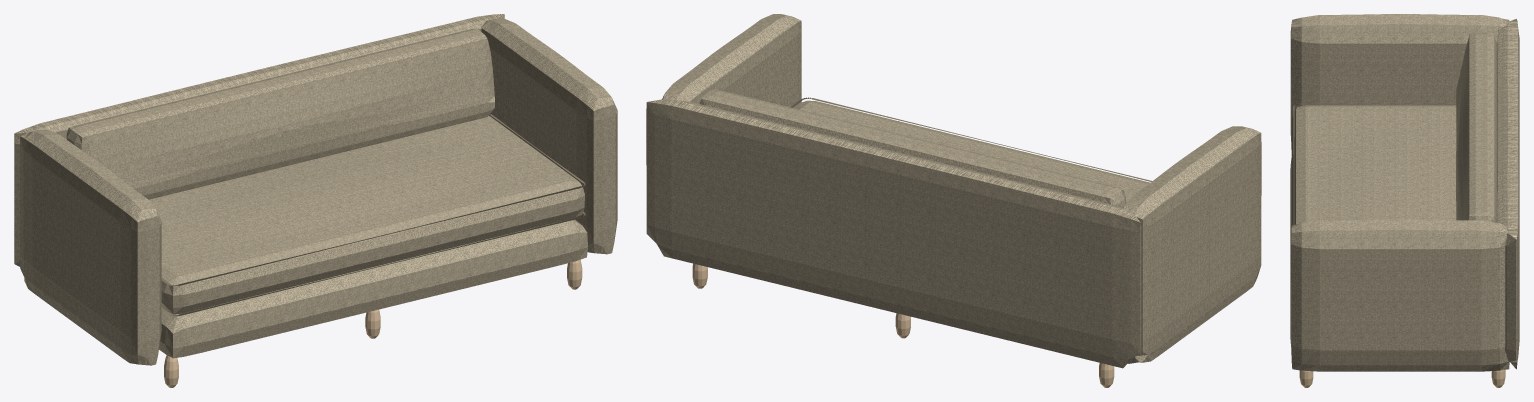
The model's file is CAL-SOF-3-seat.glb.
The picture shows the model from 3 angles, left to right: view 1: azimuth 30°, elevation 25°; view 2: azimuth 150°, elevation 25°; view 3: azimuth 270°, elevation 25°; orthographic projection. The views are drawn at different scales.
Parts seen in each view (by area): view 1: seat:fabric:eyJwcmVzZXQiOiJib3VjbGUiLCJ3YXJwIjoib2F0Iiwid2Vm, inside-back:fabric:eyJwcmVzZXQiOiJib3VjbGUiLCJ3YXJwIjoib2F0I, arm-pad-l:fabric:eyJwcmVzZXQiOiJib3VjbGUiLCJ3YXJwIjoib2F0Iiw, deck:fabric:eyJwcmVzZXQiOiJib3VjbGUiLCJ3YXJwIjoib2F0Iiwid2Vm, arm-pad-r:fabric:eyJwcmVzZXQiOiJib3VjbGUiLCJ3YXJwIjoib2F0Iiw, back-pad:fabric:eyJwcmVzZXQiOiJib3VjbGUiLCJ3YXJwIjoib2F0Iiwi, seat:piping:pbr; view 2: back-pad:fabric:eyJwcmVzZXQiOiJib3VjbGUiLCJ3YXJwIjoib2F0Iiwi, arm-pad-l:fabric:eyJwcmVzZXQiOiJib3VjbGUiLCJ3YXJwIjoib2F0Iiw, inside-back:fabric:eyJwcmVzZXQiOiJib3VjbGUiLCJ3YXJwIjoib2F0I, arm-pad-r:fabric:eyJwcmVzZXQiOiJib3VjbGUiLCJ3YXJwIjoib2F0Iiw, seat:fabric:eyJwcmVzZXQiOiJib3VjbGUiLCJ3YXJwIjoib2F0Iiwid2Vm, seat:piping:pbr; view 3: arm-pad-r:fabric:eyJwcmVzZXQiOiJib3VjbGUiLCJ3YXJwIjoib2F0Iiw, seat:fabric:eyJwcmVzZXQiOiJib3VjbGUiLCJ3YXJwIjoib2F0Iiwid2Vm, arm-pad-l:fabric:eyJwcmVzZXQiOiJib3VjbGUiLCJ3YXJwIjoib2F0Iiw, inside-back:fabric:eyJwcmVzZXQiOiJib3VjbGUiLCJ3YXJwIjoib2F0I, back-pad:fabric:eyJwcmVzZXQiOiJib3VjbGUiLCJ3YXJwIjoib2F0Iiwi, seat:piping:pbr, deck:fabric:eyJwcmVzZXQiOiJib3VjbGUiLCJ3YXJwIjoib2F0Iiwid2Vm, leg-br:pbr, leg-fr:pbr.
Boxes of the visible parts, box(x1,y1,x2,y2) form: seat:fabric:eyJwcmVzZXQiOiJib3VjbGUiLCJ3YXJwIjoib2F0Iiwid2Vm: box(148, 116, 584, 314); inside-back:fabric:eyJwcmVzZXQiOiJib3VjbGUiLCJ3YXJwIjoib2F0I: box(66, 28, 494, 199); arm-pad-l:fabric:eyJwcmVzZXQiOiJib3VjbGUiLCJ3YXJwIjoib2F0Iiw: box(20, 130, 161, 365); deck:fabric:eyJwcmVzZXQiOiJib3VjbGUiLCJ3YXJwIjoib2F0Iiwid2Vm: box(159, 219, 587, 358); arm-pad-r:fabric:eyJwcmVzZXQiOiJib3VjbGUiLCJ3YXJwIjoib2F0Iiw: box(481, 18, 617, 254); back-pad:fabric:eyJwcmVzZXQiOiJib3VjbGUiLCJ3YXJwIjoib2F0Iiwi: box(14, 14, 504, 266); seat:piping:pbr: box(161, 114, 585, 316); back-pad:fabric:eyJwcmVzZXQiOiJib3VjbGUiLCJ3YXJwIjoib2F0Iiwi: box(646, 99, 1140, 368); arm-pad-l:fabric:eyJwcmVzZXQiOiJib3VjbGUiLCJ3YXJwIjoib2F0Iiw: box(1123, 126, 1261, 363); inside-back:fabric:eyJwcmVzZXQiOiJib3VjbGUiLCJ3YXJwIjoib2F0I: box(700, 89, 1126, 207); arm-pad-r:fabric:eyJwcmVzZXQiOiJib3VjbGUiLCJ3YXJwIjoib2F0Iiw: box(662, 14, 801, 107); seat:fabric:eyJwcmVzZXQiOiJib3VjbGUiLCJ3YXJwIjoib2F0Iiwid2Vm: box(794, 100, 1149, 202); seat:piping:pbr: box(791, 97, 1152, 181); arm-pad-r:fabric:eyJwcmVzZXQiOiJib3VjbGUiLCJ3YXJwIjoib2F0Iiw: box(1290, 219, 1509, 371); seat:fabric:eyJwcmVzZXQiOiJib3VjbGUiLCJ3YXJwIjoib2F0Iiwid2Vm: box(1291, 105, 1456, 226); arm-pad-l:fabric:eyJwcmVzZXQiOiJib3VjbGUiLCJ3YXJwIjoib2F0Iiw: box(1290, 14, 1509, 149); inside-back:fabric:eyJwcmVzZXQiOiJib3VjbGUiLCJ3YXJwIjoib2F0I: box(1456, 32, 1497, 222); back-pad:fabric:eyJwcmVzZXQiOiJib3VjbGUiLCJ3YXJwIjoib2F0Iiwi: box(1497, 19, 1519, 369); seat:piping:pbr: box(1293, 103, 1456, 224); deck:fabric:eyJwcmVzZXQiOiJib3VjbGUiLCJ3YXJwIjoib2F0Iiwid2Vm: box(1290, 158, 1497, 343); leg-br:pbr: box(1491, 370, 1505, 387); leg-fr:pbr: box(1299, 370, 1313, 387).
Bounding box in the file's own units: 2.1 × 0.78 × 0.92.
Materials: 13 (6 with a texture image).
